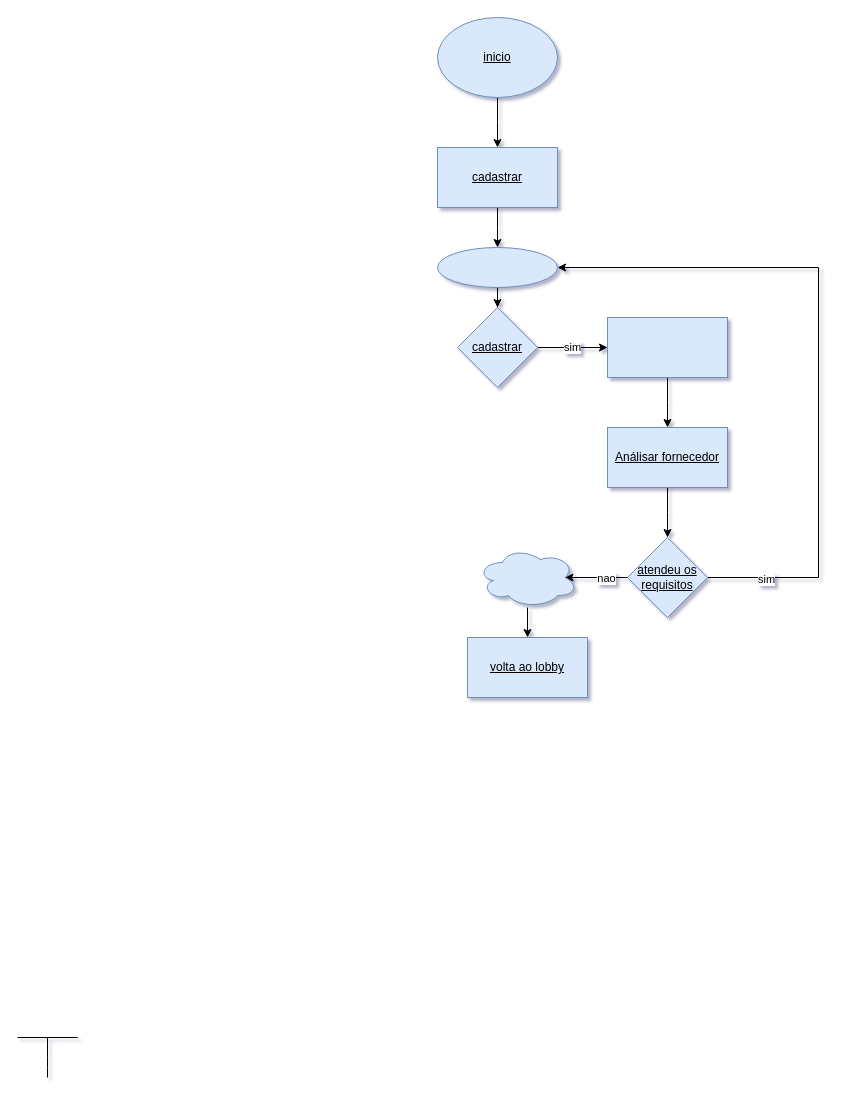
This 850x1109 diagram has some shape labels left out. The centre of each missing label's shape, as x and y in pixels:
"lobby" goes at point 667,347.
"login" goes at point 497,267.
"mensagem de erro" goes at point 527,577.
